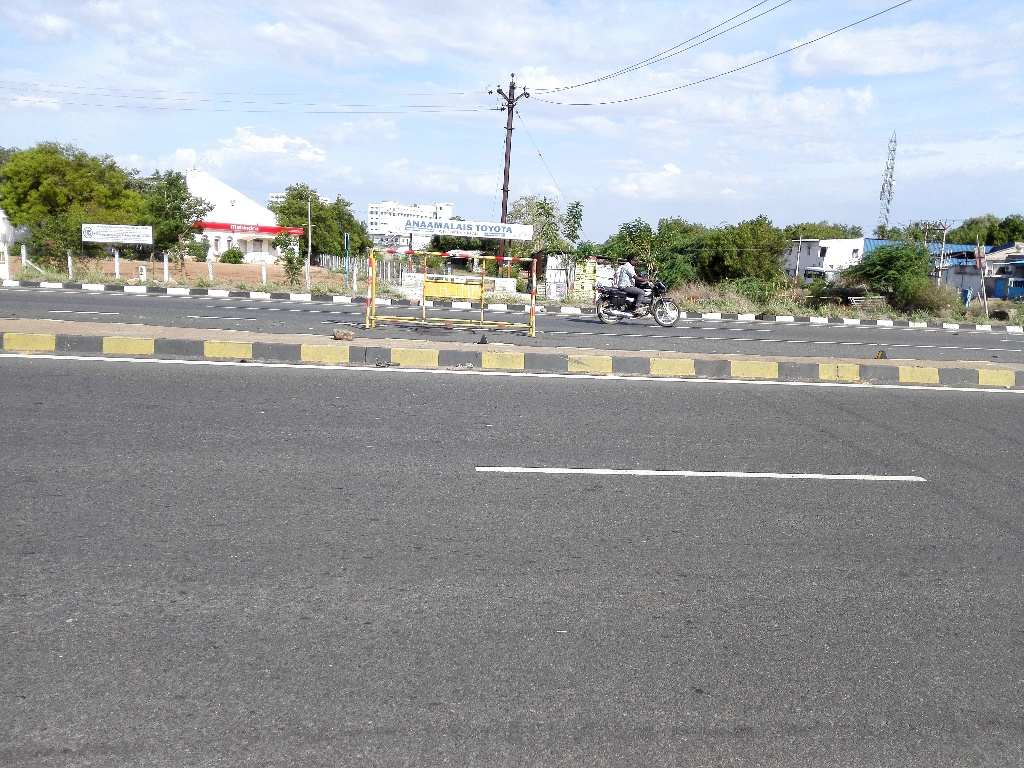biker: (586, 231, 688, 333)
nohelmet: (623, 246, 644, 272)
